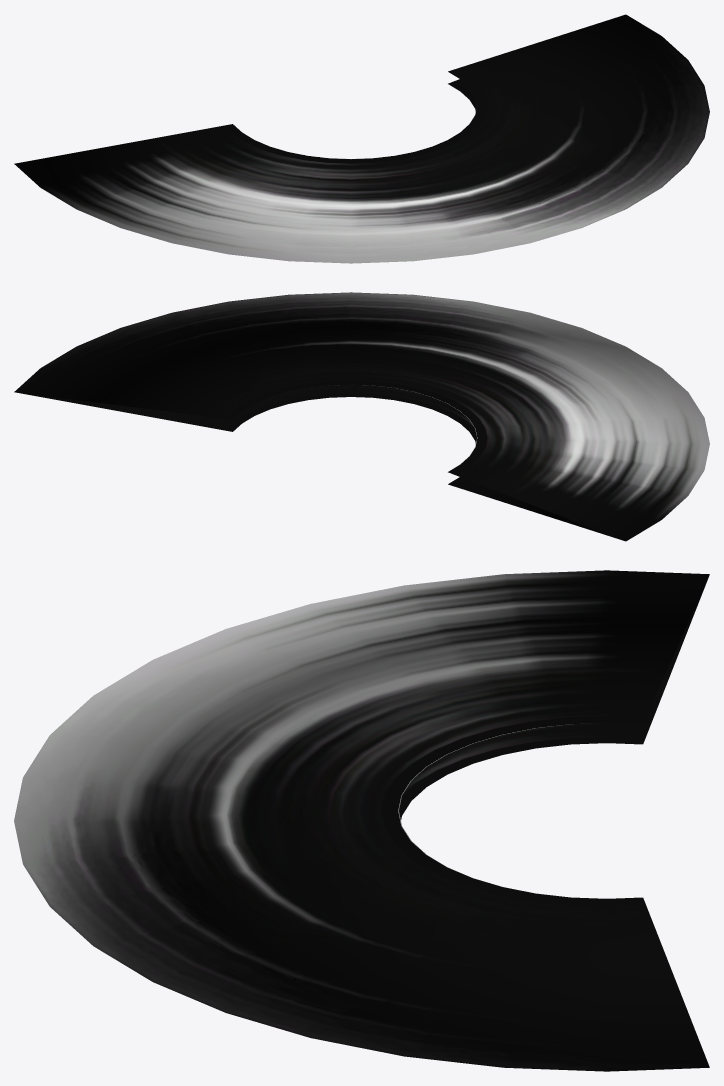
The model's file is daoguang.FBX.
3 renders of one model, top to bottom at view 1: azimuth 30°, elevation 25°; view 2: azimuth 150°, elevation 25°; view 3: azimuth 270°, elevation 25°, orthographic. The views are drawn at different scales.
Parts seen in each view (by area): view 1: Cylinder001; view 2: Cylinder001; view 3: Cylinder001.
Boxes of the visible parts, x1,y1,x2,y2 form: Cylinder001: [14, 14, 709, 263]; Cylinder001: [14, 292, 709, 541]; Cylinder001: [14, 570, 709, 1071].
Bounding box in the file's own units: 357 × 6.72 × 210.
